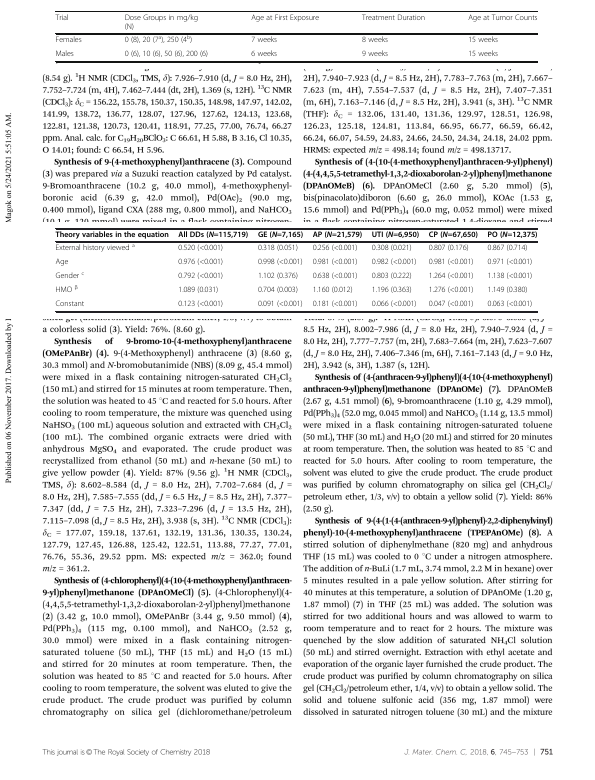borderless: (54, 227, 537, 311), (54, 10, 537, 61)
cell: (124, 14, 199, 32), (55, 231, 170, 240), (54, 242, 136, 254), (124, 50, 209, 60), (124, 34, 193, 46), (177, 231, 249, 240), (467, 14, 538, 23), (250, 14, 320, 23), (361, 14, 426, 23), (177, 244, 224, 254), (177, 258, 224, 268), (486, 258, 533, 268), (177, 272, 224, 282), (486, 272, 533, 282), (177, 300, 224, 310), (486, 300, 533, 310), (486, 231, 538, 240), (312, 244, 358, 254), (257, 258, 303, 268), (312, 258, 358, 268), (371, 258, 417, 268), (428, 258, 474, 268), (312, 272, 358, 282), (428, 272, 474, 282), (428, 286, 474, 296), (257, 300, 303, 310), (312, 300, 358, 310), (371, 300, 417, 310), (428, 300, 474, 310), (312, 231, 363, 240), (428, 231, 479, 240), (371, 231, 420, 240), (257, 231, 304, 240), (257, 244, 299, 254), (371, 244, 413, 254), (428, 244, 470, 254), (486, 244, 528, 254), (257, 272, 299, 282), (371, 272, 413, 282), (177, 286, 219, 296), (257, 286, 299, 296), (371, 286, 413, 296), (486, 286, 528, 296), (312, 286, 353, 296), (55, 270, 85, 282), (467, 36, 499, 46), (467, 50, 499, 60), (55, 300, 85, 310), (55, 284, 79, 296), (250, 36, 278, 46), (361, 36, 389, 46), (250, 50, 278, 60), (361, 50, 389, 60), (55, 36, 82, 46), (54, 50, 75, 60), (55, 258, 69, 268), (55, 14, 69, 23)
